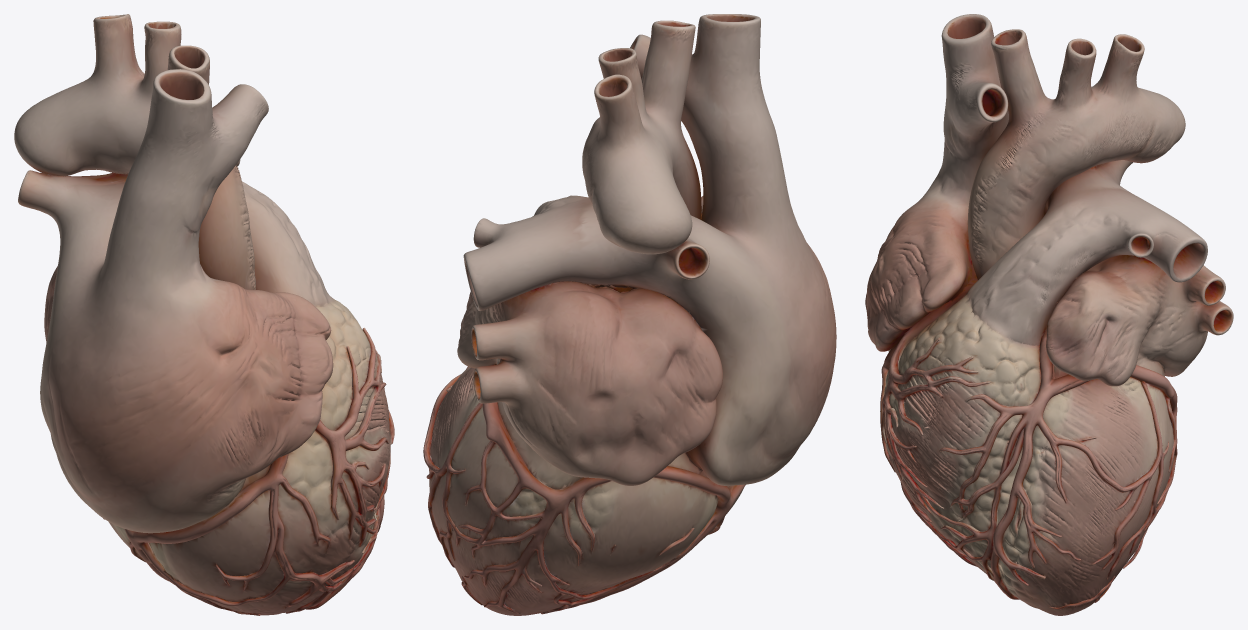
File: heart.glb
The picture shows the model from 3 angles, left to right: view 1: azimuth 30°, elevation 25°; view 2: azimuth 150°, elevation 25°; view 3: azimuth 270°, elevation 25°; orthographic projection. The views are drawn at different scales.
Parts seen in each view (by area): view 1: Object_2; view 2: Object_2; view 3: Object_2.
Part boxes in pixels (bbox=[...]): Object_2: bbox=[14, 14, 394, 615]; Object_2: bbox=[423, 14, 836, 615]; Object_2: bbox=[865, 14, 1233, 615].
Size of the model in its own units: 0.581 by 0.9813 by 0.6264.
